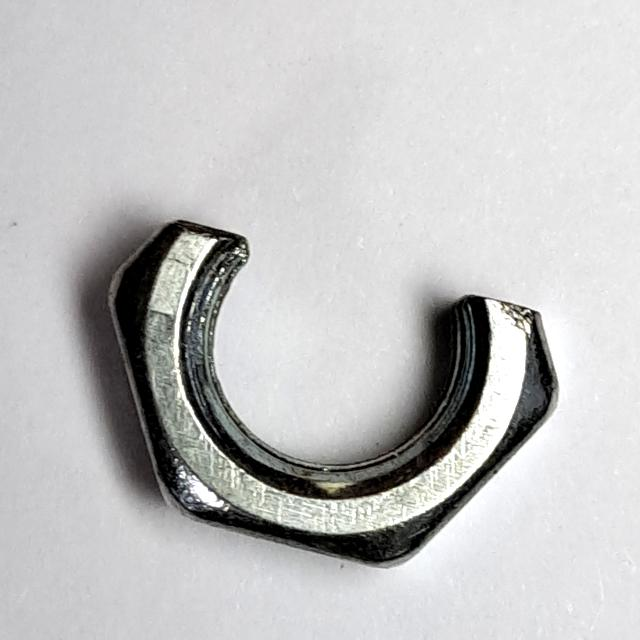Fracture: (96, 199, 573, 586)
